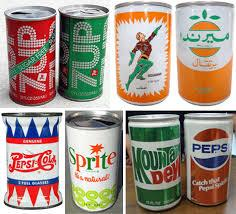Aluminum can: (112, 2, 175, 106), (0, 111, 62, 213), (175, 2, 234, 104), (126, 111, 186, 207), (64, 111, 121, 211), (3, 6, 57, 107), (57, 6, 111, 106), (183, 111, 234, 209)
